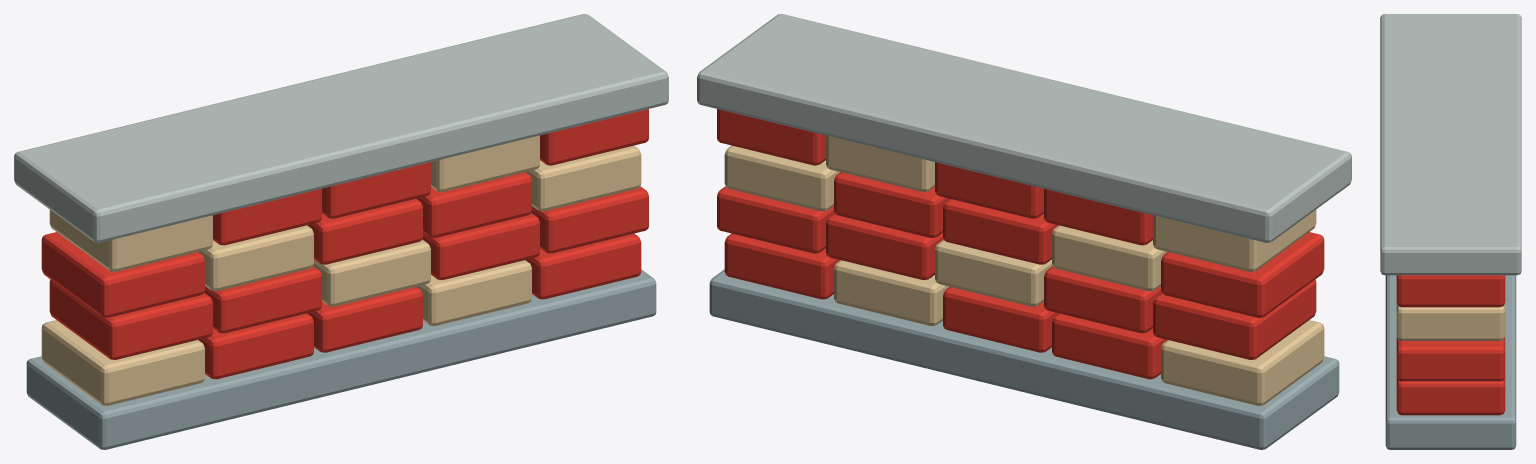
Rendered from S064_brick_parapet.glb.
3 views of the same model, side by side, from view 1: azimuth 30°, elevation 25°; view 2: azimuth 150°, elevation 25°; view 3: azimuth 270°, elevation 25° (orthographic). The views are drawn at different scales.
Parts seen in each view (by area): view 1: wall_cap, parapet_base, foam_brick, foam_brick.010, foam_brick.005, foam_brick.014, foam_brick.004, foam_brick.006, foam_brick.007, foam_brick.002, foam_brick.008, foam_brick.009 (+10 smaller); view 2: wall_cap, parapet_base, foam_brick, foam_brick.010, foam_brick.005, foam_brick.014, foam_brick.004, foam_brick.006, foam_brick.007, foam_brick.002, foam_brick.008, foam_brick.009 (+10 smaller); view 3: wall_cap, parapet_base, foam_brick.009, foam_brick.004, foam_brick.014, foam_brick.019.
Boxes of the visible parts, x1=… form: wall_cap: x1=14, y1=14, x2=668, y2=242; parapet_base: x1=26, y1=269, x2=656, y2=449; foam_brick: x1=41, y1=320, x2=204, y2=405; foam_brick.010: x1=41, y1=232, x2=204, y2=317; foam_brick.005: x1=49, y1=279, x2=212, y2=359; foam_brick.014: x1=525, y1=145, x2=641, y2=211; foam_brick.004: x1=525, y1=233, x2=641, y2=299; foam_brick.006: x1=204, y1=266, x2=321, y2=333; foam_brick.007: x1=313, y1=239, x2=430, y2=306; foam_brick.002: x1=307, y1=287, x2=422, y2=352; foam_brick.008: x1=422, y1=213, x2=539, y2=280; foam_brick.009: x1=531, y1=186, x2=648, y2=253; wall_cap: x1=697, y1=14, x2=1351, y2=242; parapet_base: x1=709, y1=269, x2=1339, y2=449; foam_brick: x1=1161, y1=320, x2=1324, y2=405; foam_brick.010: x1=1161, y1=232, x2=1324, y2=317; foam_brick.005: x1=1153, y1=279, x2=1316, y2=359; foam_brick.014: x1=724, y1=145, x2=840, y2=211; foam_brick.004: x1=724, y1=233, x2=840, y2=299; foam_brick.006: x1=1044, y1=266, x2=1161, y2=333; foam_brick.007: x1=935, y1=239, x2=1052, y2=306; foam_brick.002: x1=943, y1=287, x2=1058, y2=352; foam_brick.008: x1=826, y1=213, x2=943, y2=280; foam_brick.009: x1=717, y1=186, x2=834, y2=253; wall_cap: x1=1380, y1=14, x2=1521, y2=275; parapet_base: x1=1385, y1=275, x2=1516, y2=449; foam_brick.009: x1=1396, y1=337, x2=1505, y2=381; foam_brick.004: x1=1396, y1=377, x2=1505, y2=415; foam_brick.014: x1=1396, y1=303, x2=1505, y2=340; foam_brick.019: x1=1396, y1=275, x2=1505, y2=307.
Size of the model in its own units: 2.53 by 1.03 by 0.64.
